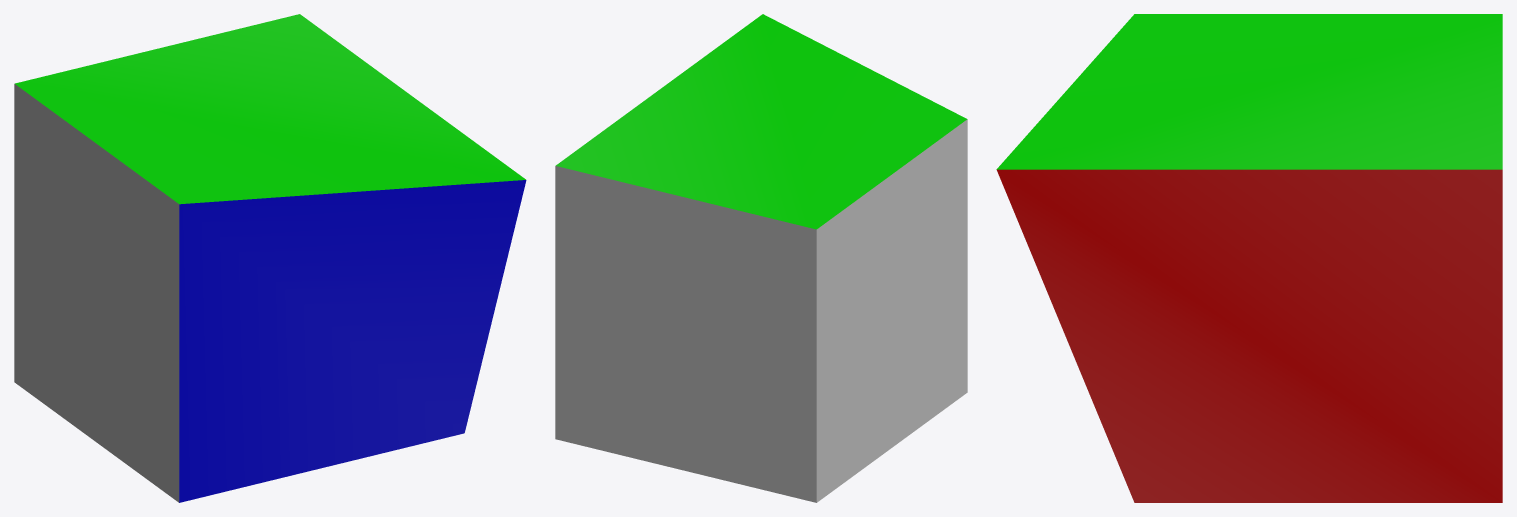
File: testCube_properties.gltf
The picture shows the model from 3 angles, left to right: view 1: azimuth 30°, elevation 25°; view 2: azimuth 150°, elevation 25°; view 3: azimuth 270°, elevation 25°; orthographic projection. The views are drawn at different scales.
Parts seen in each view (by area): view 1: Cube; view 2: Cube; view 3: Cube.
Part boxes in pixels (left/top/right/bottom): Cube: left=14, top=14, right=526, bottom=502; Cube: left=555, top=14, right=967, bottom=502; Cube: left=996, top=14, right=1502, bottom=502.
Bounding box in the file's own units: 1 × 1 × 1.38.
